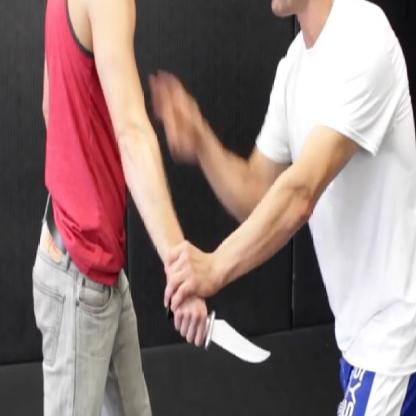knife: (166, 302, 274, 376)
